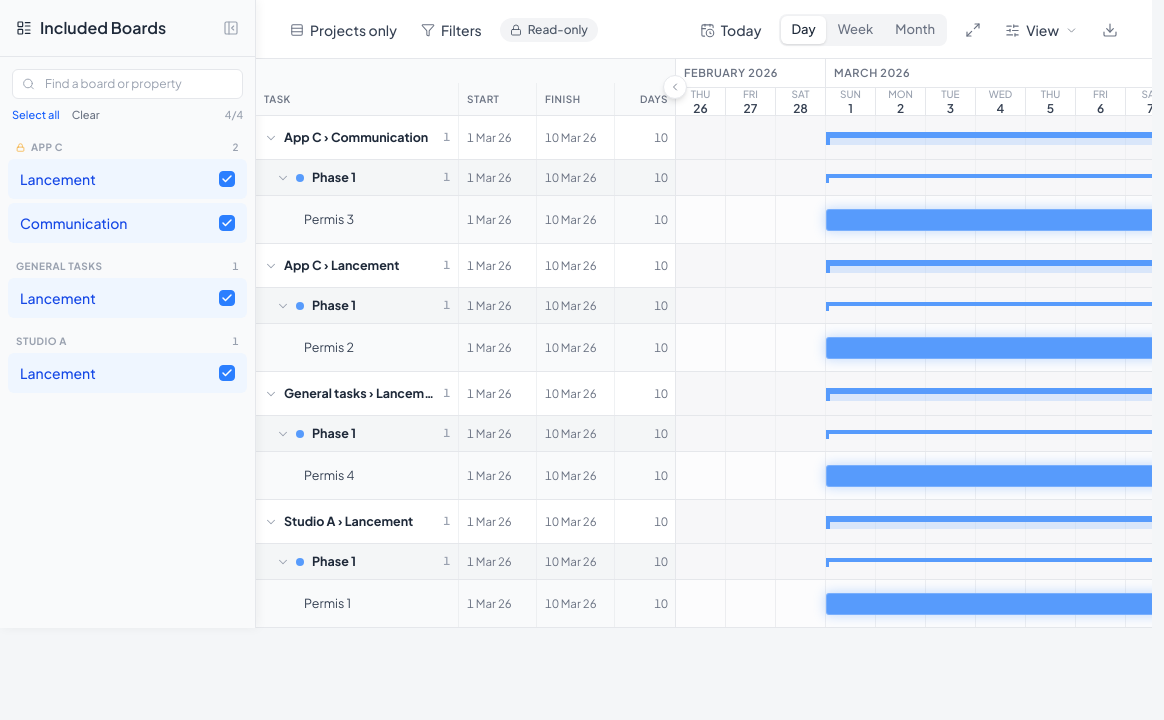
Scenario: WorkspaceGanttView — portfolio swimlanes › filters the board list by board or property name
Type "Communication" into the field named "Filter boards" at (128, 84), box [12, 69, 243, 99]
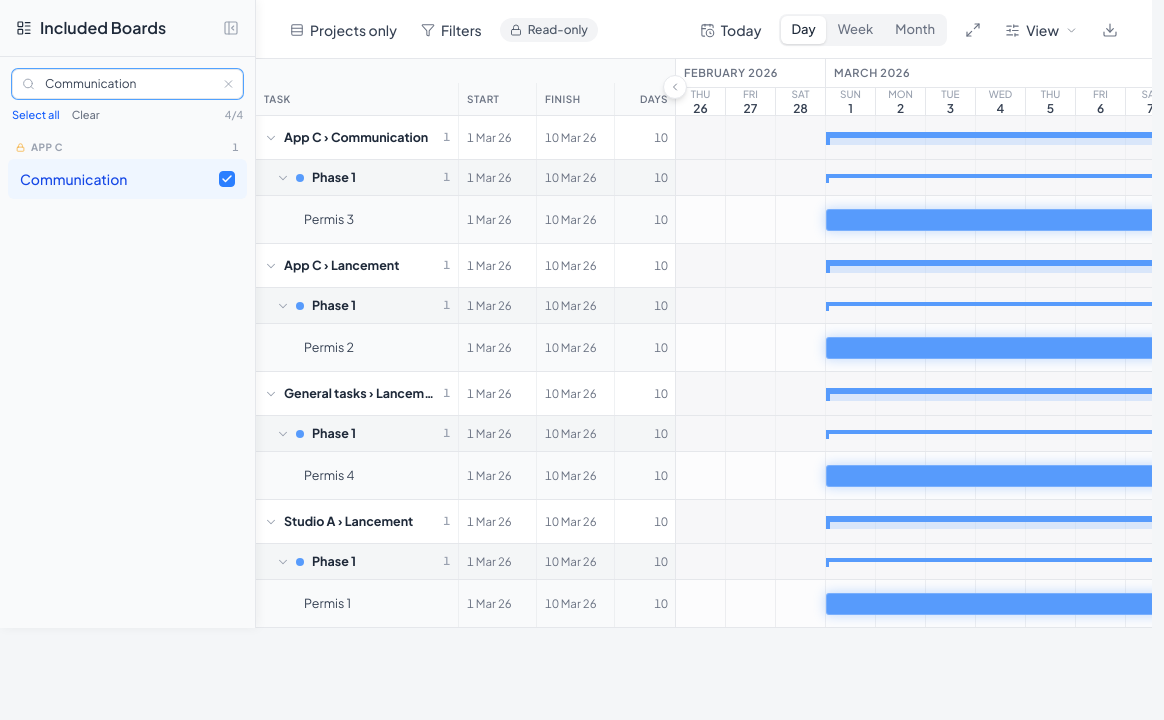
Expected: the button "Communication" is shown, [8, 158, 247, 198]
Replace the text in the field named "Filter boards" with "Studio" at (128, 84), box [12, 69, 243, 99]
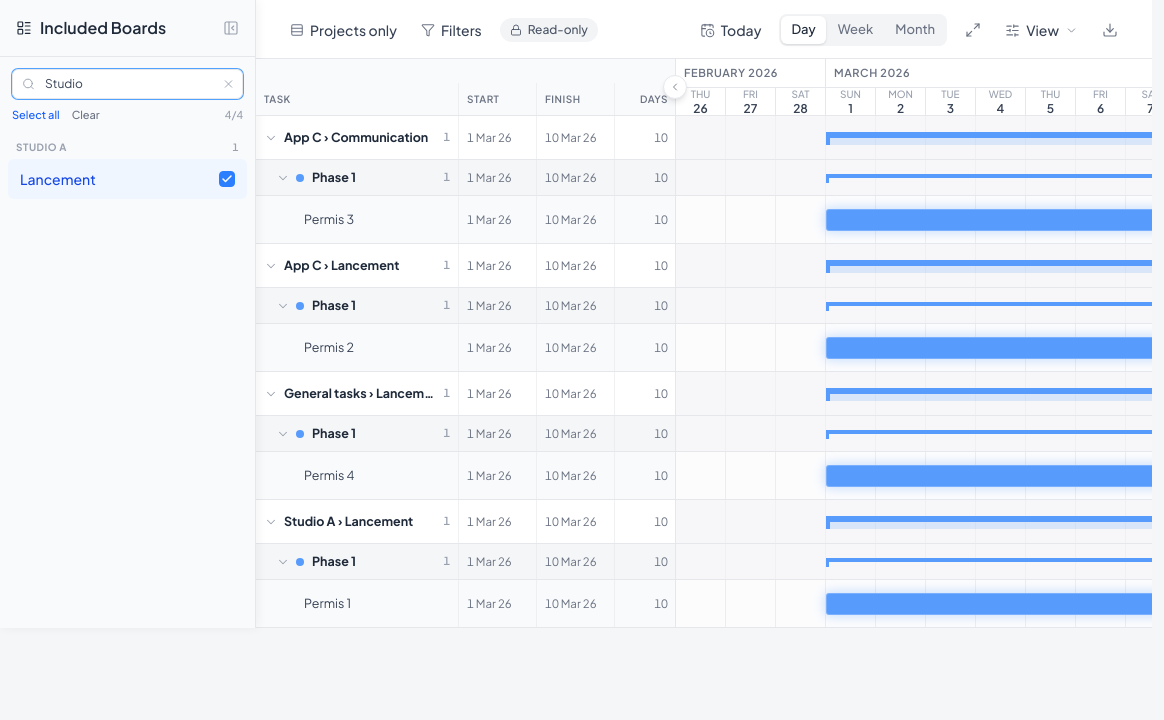
Expected: the number of buttons "Lancement" is 1, [8, 158, 247, 198]
